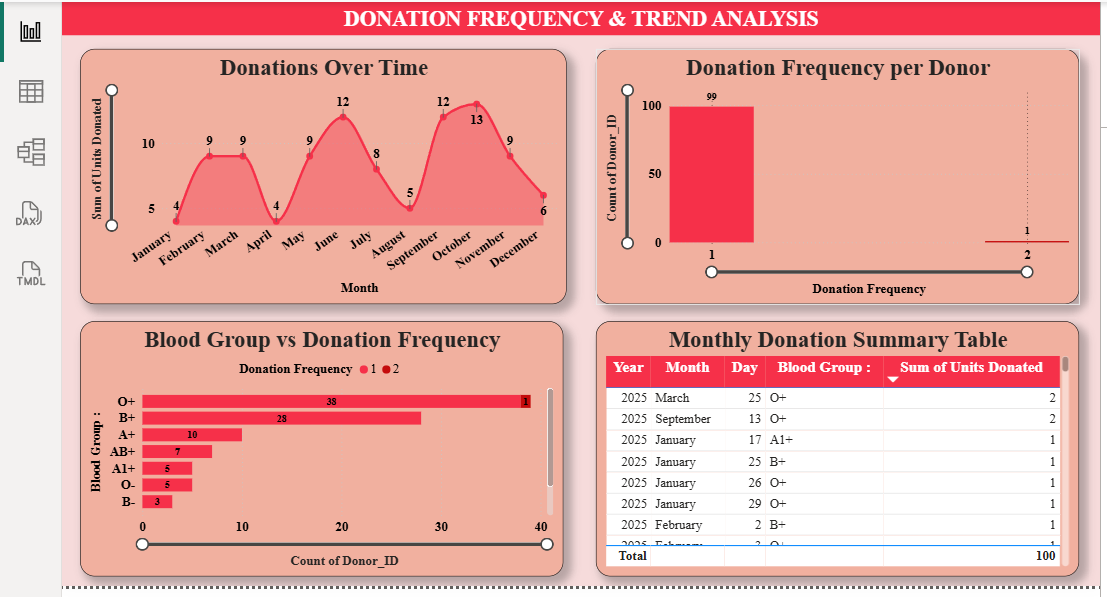

Layout of this report page (visuals, bound fields, positions):
{"tool":"powerbi","page":{"name":"Page 3","canvas":[1280,720],"ordinal":2},"visuals":[{"type":"textbox","box":[0,0,1280.3,41.2],"z":0},{"type":"lineChart","title":" Donations Over Time","fields":{"Y":["Sum(Sheet1.Units Donated)"],"Category":["Sheet1.Donation Date.Variation.Date Hierarchy.Month"]},"box":[21.5,57.8,599.8,314.7],"z":1000},{"type":"columnChart","title":" Donation Frequency per Donor","fields":{"Category":["Sheet1.Donation Frequency"],"Y":["CountNonNull(Sheet1.Donor_ID)"]},"box":[659,57.8,595.8,314.7],"z":2000},{"type":"barChart","title":" Blood Group vs Donation Frequency","fields":{"Y":["CountNonNull(Sheet1.Donor_ID)"],"Category":["Sheet1.Blood Group :"],"Series":["Sheet1.Donation Frequency"]},"box":[21.5,392.7,595.8,314.7],"z":3000},{"type":"tableEx","title":"Monthly Donation Summary Table","fields":{"Values":["Sheet1.Donation Date.Variation.Date Hierarchy.Year","Sheet1.Donation Date.Variation.Date Hierarchy.Month","Sheet1.Donation Date.Variation.Date Hierarchy.Day","Sheet1.Blood Group :","Sum(Sheet1.Units Donated)"]},"box":[659,392.7,595.8,314.7],"z":4000}]}

Visuals, with their boxes on the page's 1280x720 design canvas (x1, y1, x2, y2). These are canvas units, not pixel positions in the 1107x597 screenshot, which may show the page scaled, cropped or inside an application window:
textbox: l=0, t=0, r=1280, b=41
" Donations Over Time" lineChart: l=22, t=58, r=621, b=372
" Donation Frequency per Donor" columnChart: l=659, t=58, r=1255, b=372
" Blood Group vs Donation Frequency" barChart: l=22, t=393, r=617, b=707
"Monthly Donation Summary Table" tableEx: l=659, t=393, r=1255, b=707
